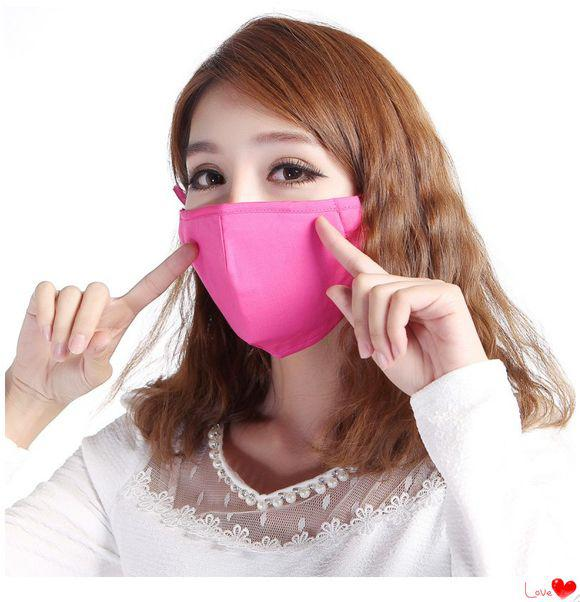OK: (178, 136, 369, 327)
